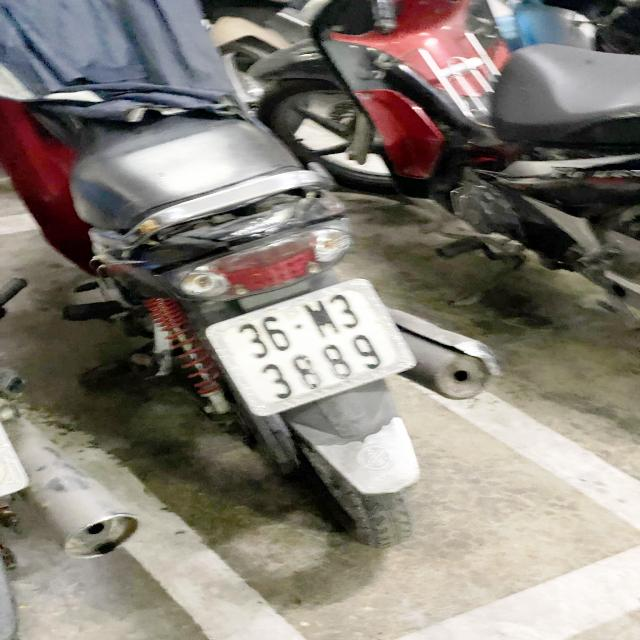license_plate: (212, 274, 416, 418)
